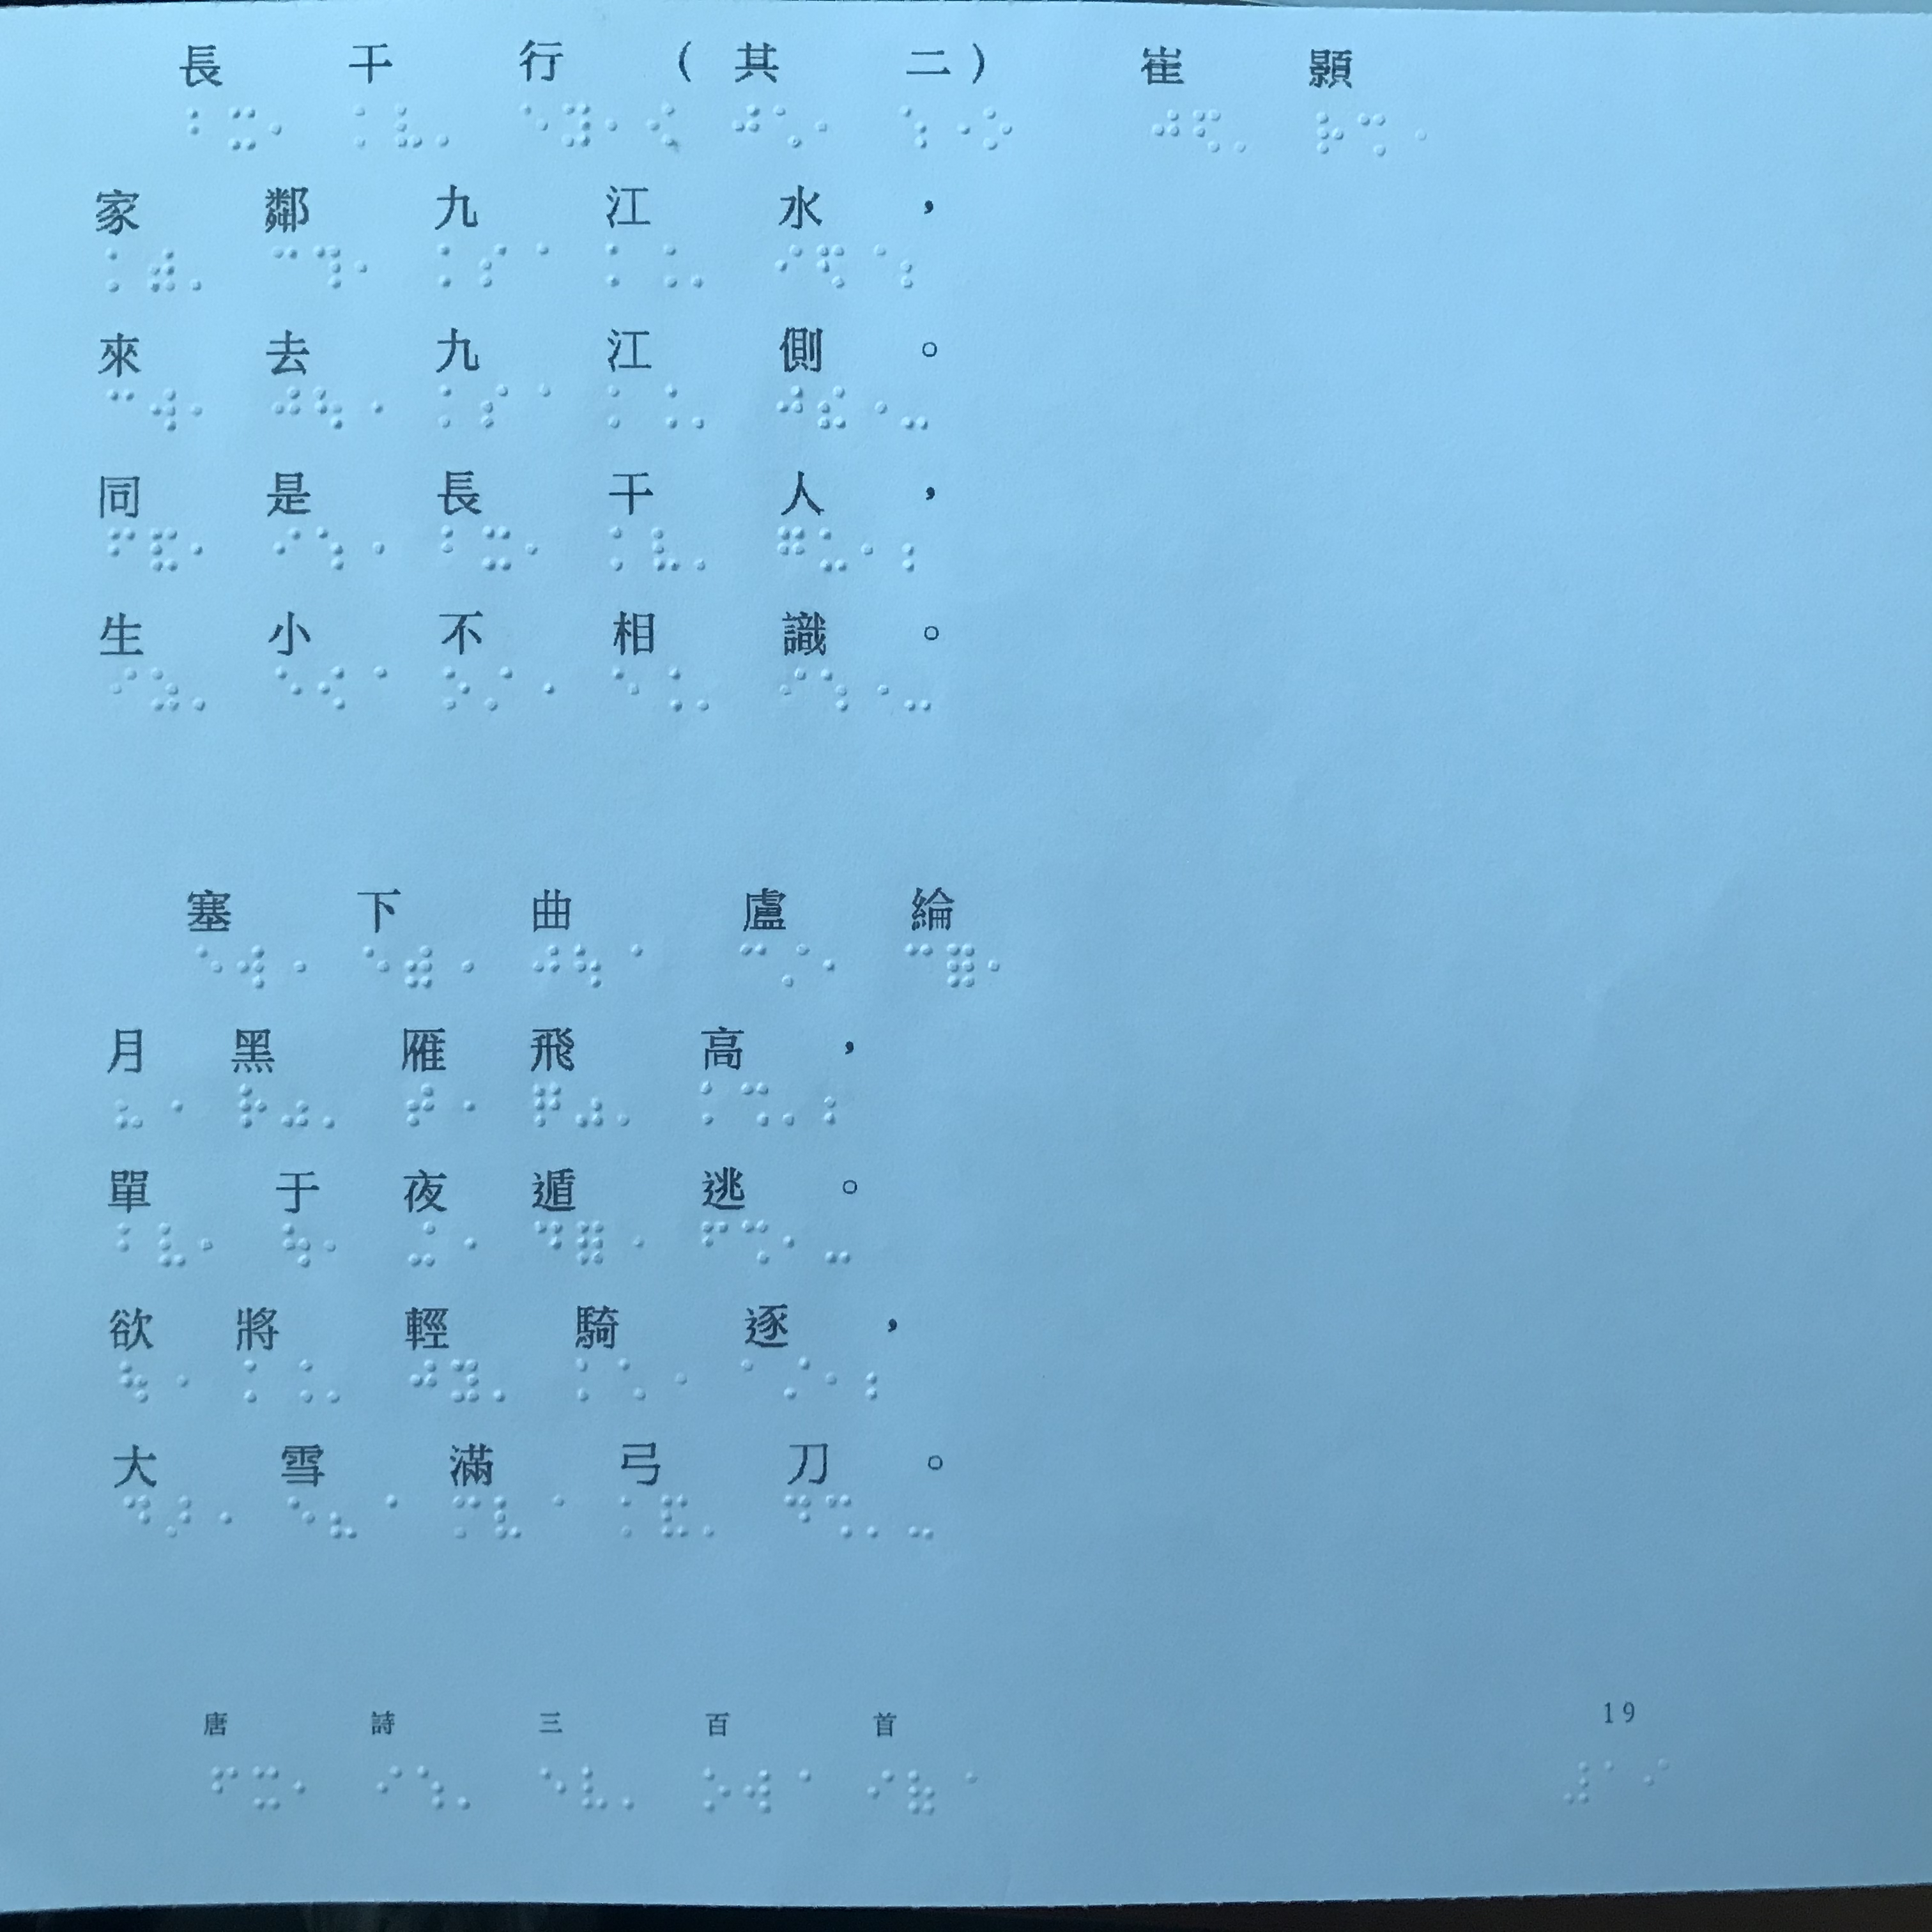Braille: (642, 99, 676, 156), (437, 662, 472, 713), (904, 938, 936, 991), (984, 101, 1016, 154), (646, 239, 678, 288), (481, 663, 513, 713), (610, 665, 642, 715), (403, 941, 435, 991), (318, 662, 349, 713), (119, 1359, 149, 1410), (906, 1766, 936, 1817), (1562, 1759, 1592, 1810), (393, 99, 423, 150), (1194, 104, 1224, 156), (1359, 108, 1389, 159), (816, 244, 847, 292), (269, 384, 301, 432), (478, 382, 510, 430), (817, 384, 849, 432), (573, 943, 605, 991), (113, 1083, 145, 1131), (575, 1077, 603, 1131), (653, 665, 683, 715), (1315, 108, 1345, 157), (520, 384, 552, 430), (106, 522, 138, 568), (658, 1493, 690, 1539), (483, 520, 511, 571), (777, 662, 805, 713), (948, 939, 977, 991), (577, 1217, 605, 1269), (701, 1217, 729, 1269), (702, 1764, 731, 1815), (867, 1766, 895, 1817), (147, 246, 177, 294), (313, 244, 343, 292), (609, 382, 639, 430), (315, 525, 345, 573), (149, 665, 179, 713), (819, 667, 849, 715), (531, 943, 561, 991), (780, 939, 810, 987), (741, 1219, 771, 1267), (283, 1357, 313, 1405), (492, 1491, 522, 1539), (416, 1764, 446, 1812), (948, 1767, 978, 1815), (826, 1490, 853, 1543), (522, 99, 548, 152), (824, 941, 853, 991), (407, 1079, 435, 1129), (534, 1079, 563, 1129), (699, 1077, 727, 1127), (409, 1219, 437, 1269), (451, 1355, 479, 1405), (453, 1491, 481, 1541), (784, 1491, 812, 1541), (732, 103, 761, 152), (147, 387, 177, 433), (649, 386, 679, 432), (817, 527, 847, 573), (695, 667, 725, 713), (237, 941, 267, 987), (361, 945, 391, 991), (490, 1359, 520, 1405), (122, 1491, 152, 1537), (230, 106, 260, 152), (315, 387, 347, 430), (902, 387, 931, 435), (648, 525, 676, 573), (777, 525, 805, 573), (525, 665, 554, 713), (195, 943, 223, 991), (446, 943, 474, 991), (280, 1083, 308, 1131), (409, 1357, 437, 1405), (166, 1490, 195, 1537), (702, 1491, 731, 1539), (1642, 1755, 1670, 1803), (563, 99, 591, 147), (775, 104, 803, 152), (814, 103, 842, 150), (901, 103, 929, 150), (435, 386, 465, 430), (738, 941, 768, 985), (782, 1357, 812, 1401), (269, 106, 299, 150), (609, 239, 635, 288), (241, 1081, 267, 1131), (157, 1219, 184, 1269), (283, 1223, 310, 1272), (287, 1491, 313, 1541), (1601, 1755, 1628, 1805), (1403, 110, 1430, 159), (479, 242, 508, 288), (775, 241, 803, 287), (860, 244, 888, 290), (150, 527, 179, 573), (860, 667, 888, 713), (326, 1357, 354, 1403), (327, 1495, 356, 1541), (784, 1766, 812, 1812), (188, 106, 216, 152), (435, 103, 464, 149), (1235, 110, 1263, 156), (987, 939, 1012, 991), (525, 524, 552, 571), (904, 527, 931, 575), (320, 1083, 347, 1131), (536, 1217, 563, 1265), (255, 1764, 281, 1812), (292, 1762, 318, 1810), (745, 1766, 771, 1813), (1154, 103, 1180, 150), (858, 386, 886, 430), (110, 663, 138, 708), (619, 1359, 648, 1403), (375, 1764, 403, 1808), (943, 103, 971, 147), (902, 241, 927, 290), (356, 242, 382, 288), (778, 384, 805, 430), (274, 665, 301, 711), (359, 662, 386, 708), (616, 941, 642, 987), (745, 1081, 771, 1127), (449, 1223, 476, 1269), (909, 1490, 932, 1543), (540, 1764, 566, 1810), (619, 1766, 646, 1812), (658, 1359, 686, 1401), (821, 1359, 849, 1401), (867, 1361, 895, 1403), (352, 106, 380, 149), (244, 1355, 269, 1403), (373, 1491, 398, 1539), (439, 244, 465, 288), (524, 242, 550, 287), (612, 527, 639, 571), (906, 669, 932, 713), (157, 1085, 184, 1129), (117, 1219, 143, 1263), (538, 1493, 564, 1537), (211, 1766, 237, 1810), (106, 248, 131, 294), (274, 244, 299, 290), (189, 527, 214, 573), (442, 524, 467, 570), (692, 527, 717, 573), (451, 1081, 476, 1127), (616, 1083, 640, 1129), (320, 1224, 345, 1270), (619, 1219, 644, 1265), (577, 1359, 602, 1405), (619, 1493, 644, 1539), (106, 387, 133, 430), (274, 527, 301, 570), (823, 1083, 849, 1125), (605, 99, 628, 147), (359, 387, 384, 432), (191, 667, 216, 711), (826, 1223, 851, 1267), (163, 1361, 188, 1405), (198, 1219, 219, 1270), (692, 387, 718, 428), (188, 387, 212, 430), (361, 527, 386, 570), (858, 531, 883, 573), (782, 1219, 803, 1269), (741, 1359, 766, 1401), (694, 244, 717, 288), (283, 945, 306, 989), (209, 1490, 230, 1537), (867, 1490, 888, 1537), (584, 1762, 605, 1810), (189, 249, 212, 292), (782, 1085, 805, 1127), (456, 1769, 481, 1808)
